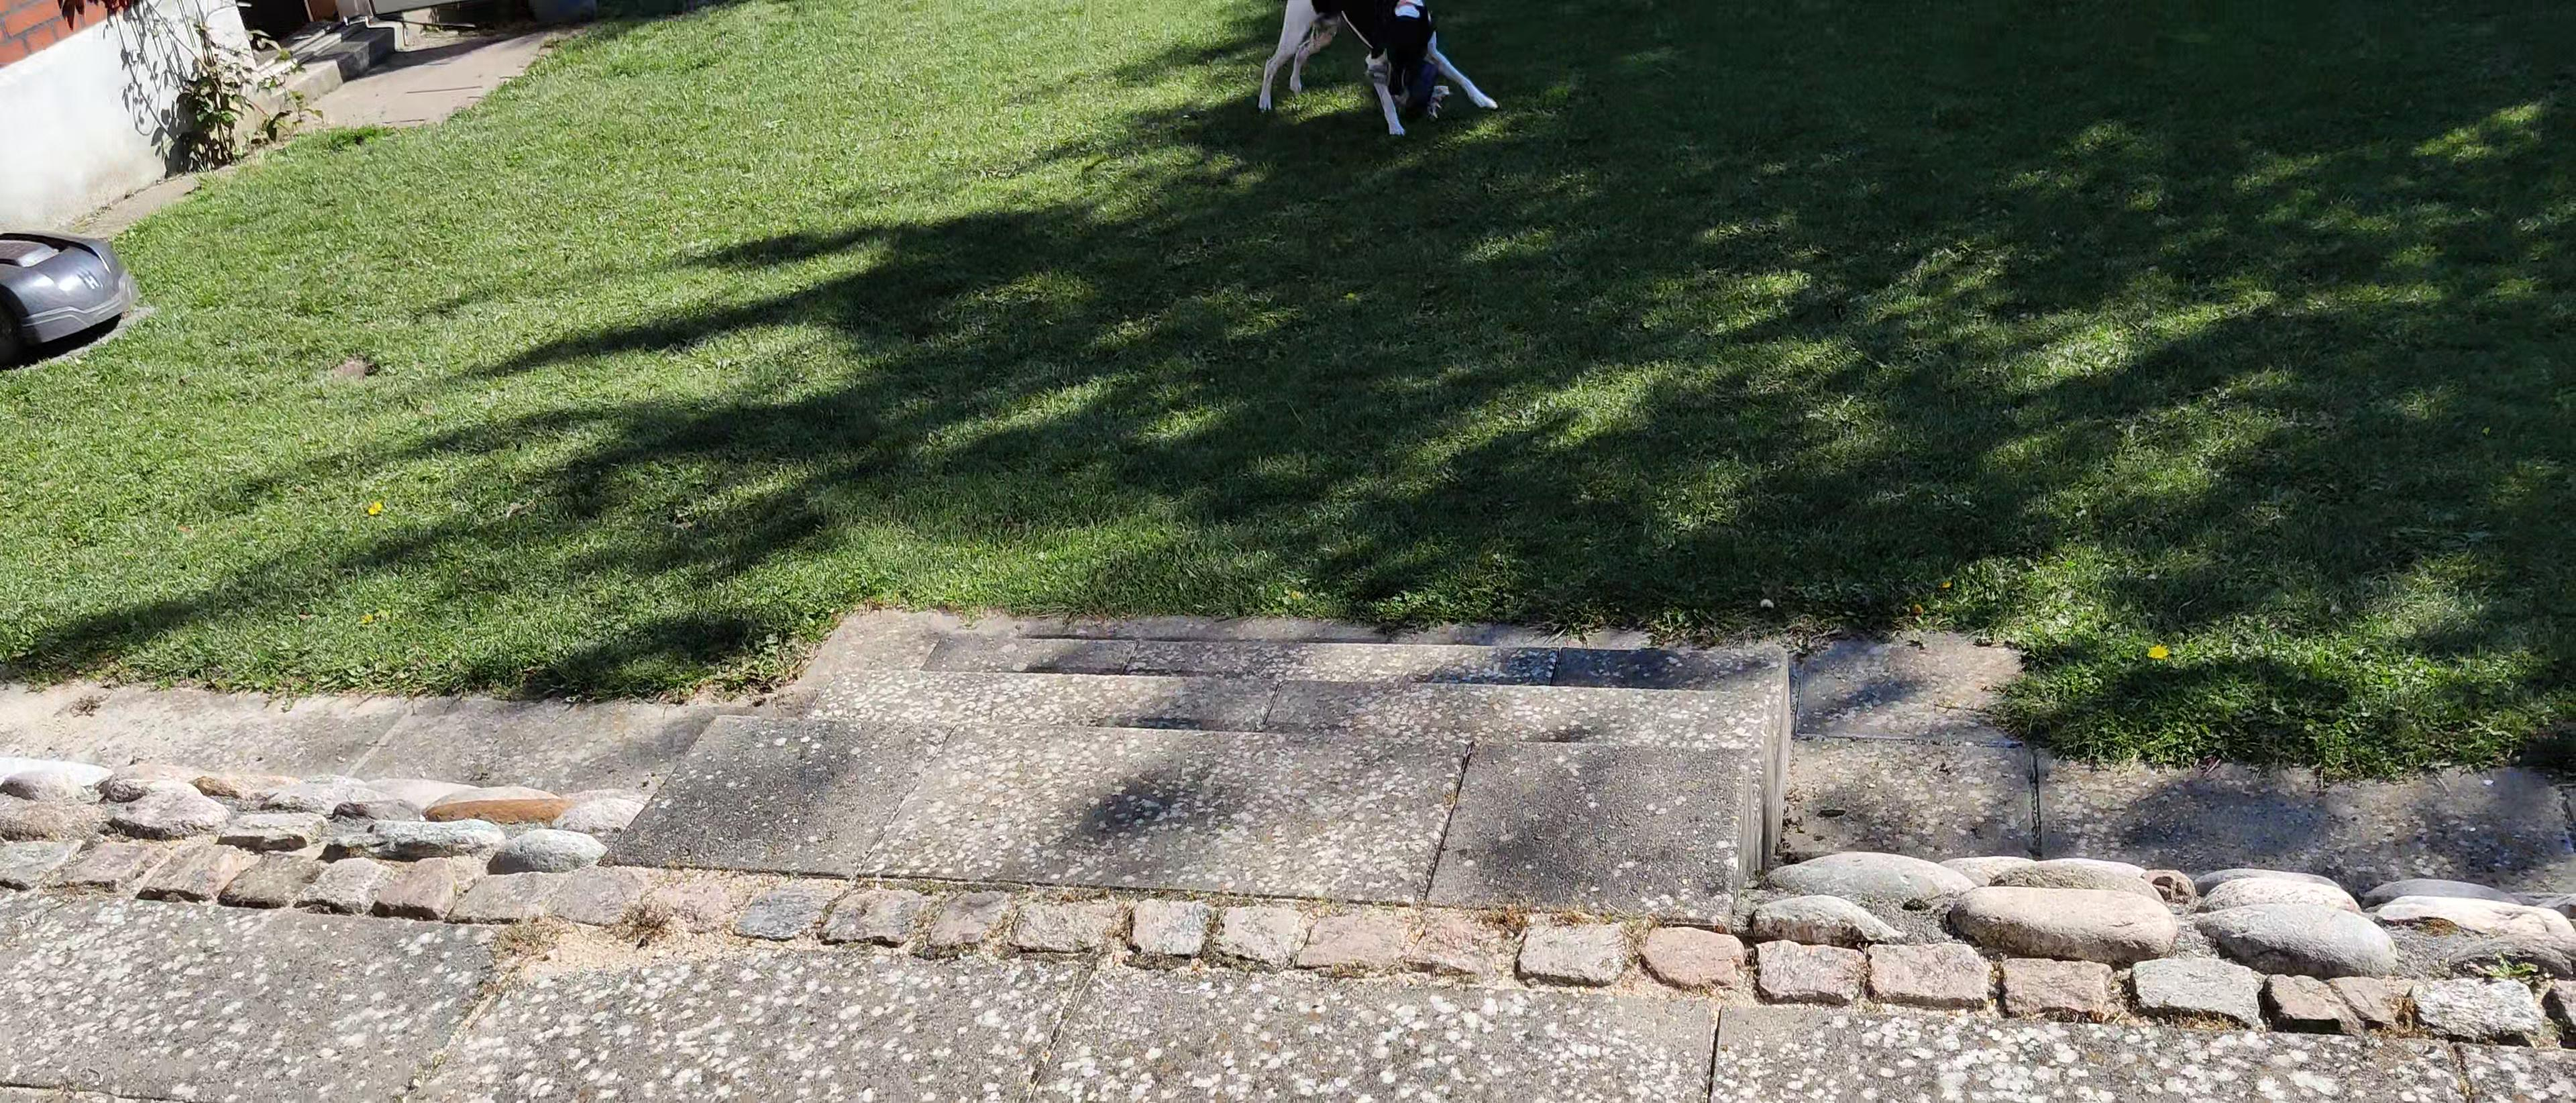Dog: (1244, 0, 1511, 148)
